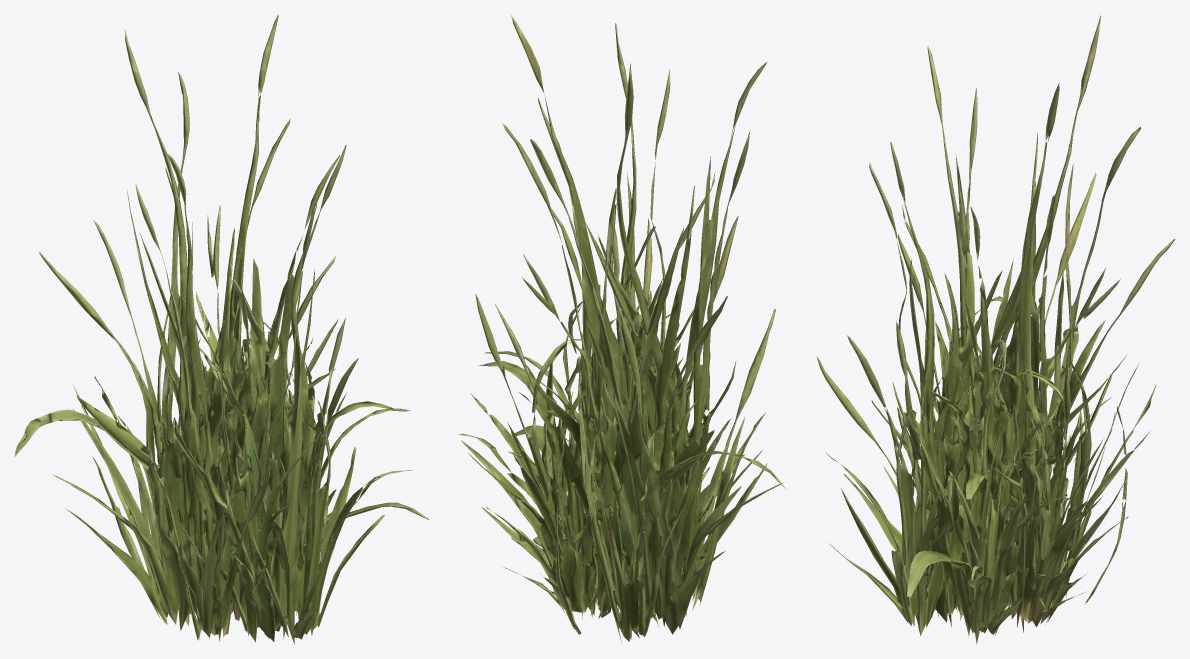
File: wildgrass-a.glb
3 renders of one model, left to right at view 1: azimuth 30°, elevation 25°; view 2: azimuth 150°, elevation 25°; view 3: azimuth 270°, elevation 25°, orthographic. The views are drawn at different scales.
Parts seen in each view (by area): view 1: Mesh_0; view 2: Mesh_0; view 3: Mesh_0.
Boxes of the visible parts, left/top/right/bottom form: Mesh_0: left=14, top=14, right=429, bottom=644; Mesh_0: left=459, top=14, right=786, bottom=641; Mesh_0: left=816, top=15, right=1175, bottom=644.
Size of the model in its own units: 0.5188 by 0.8 by 0.4505.
Materials: 1 (1 with a texture image).
